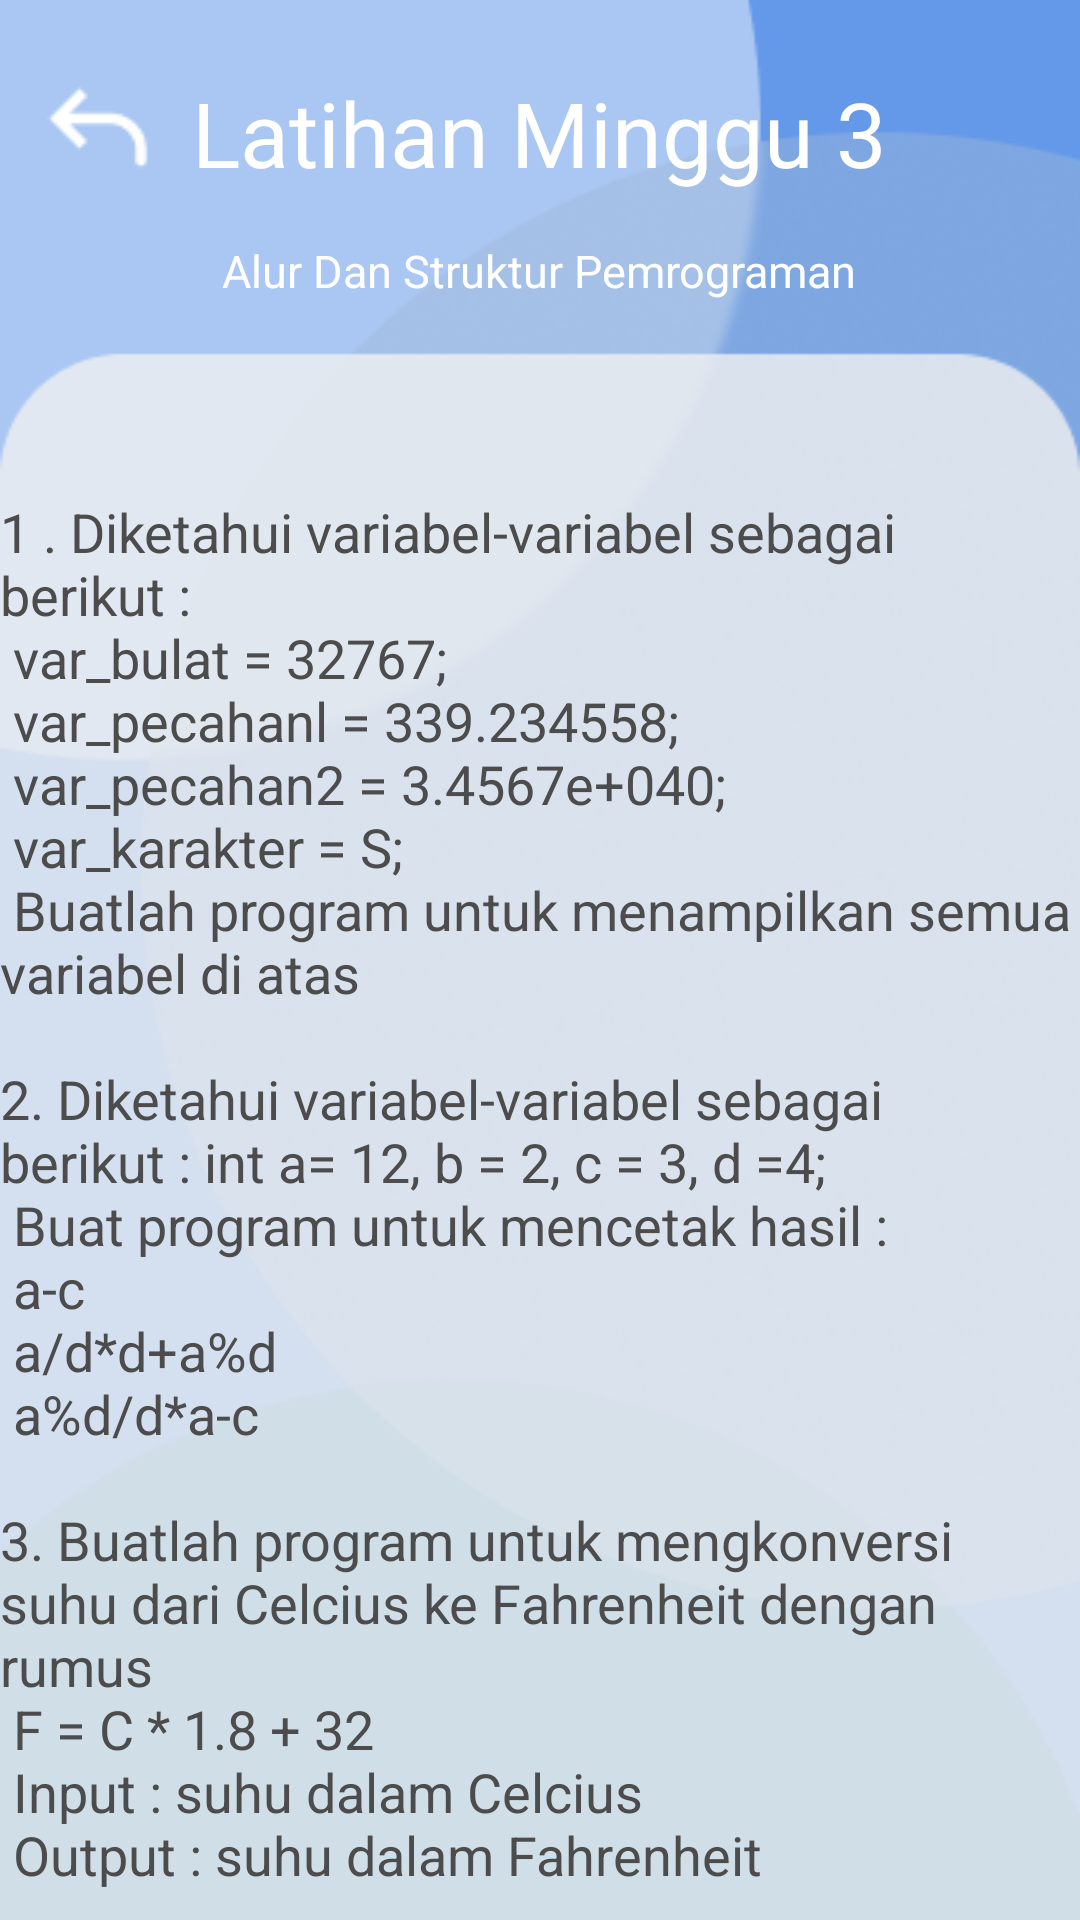

Icons on this 1080px x 1920px Android screen, each with the point to tap as (x,y):
backbutton: (98,127)
